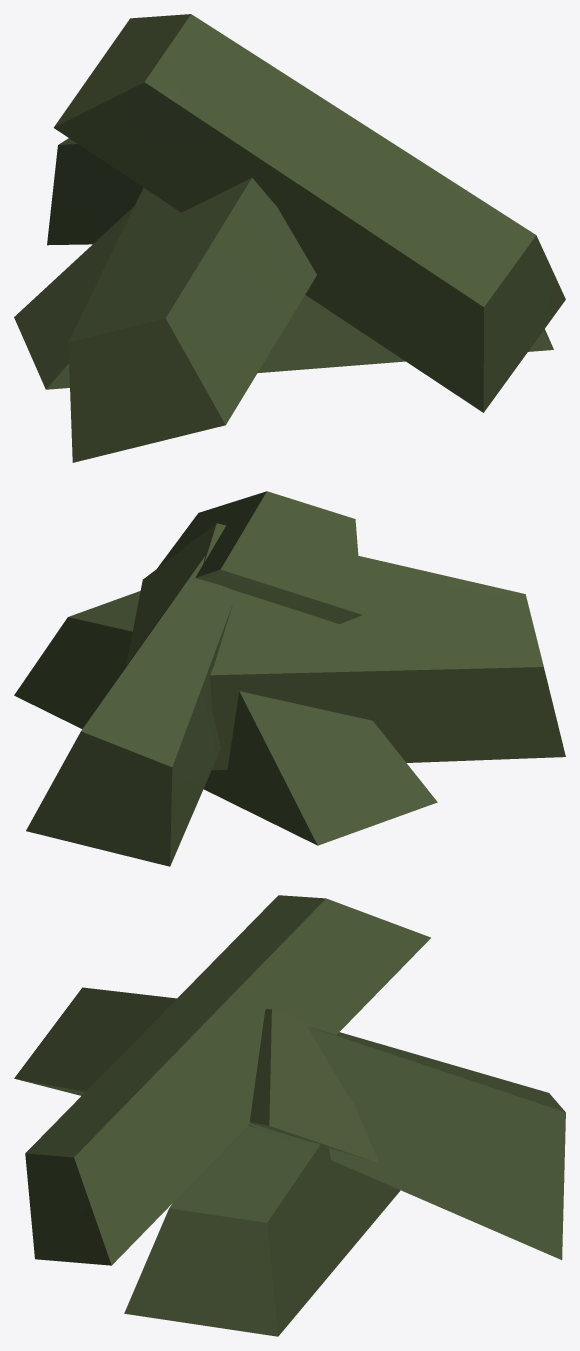
The model's file is ore.fbx.
The picture shows the model from 3 angles, top to bottom: view 1: azimuth 30°, elevation 25°; view 2: azimuth 150°, elevation 25°; view 3: azimuth 270°, elevation 25°; orthographic projection. The views are drawn at different scales.
Visible parts, largest first — view 1: Plane.002, Plane.003, Plane, Plane.001; view 2: Plane.003, Plane.001, Plane, Plane.002; view 3: Plane.002, Plane, Plane.001, Plane.003.
Part boxes in pixels (box(x1,y1,x2,y2)): Plane.002: box(53, 14, 565, 412); Plane.003: box(68, 178, 316, 462); Plane: box(14, 206, 553, 389); Plane.001: box(47, 138, 143, 245); Plane.003: box(126, 523, 565, 770); Plane.001: box(26, 556, 233, 866); Plane: box(14, 591, 437, 845); Plane.002: box(157, 491, 362, 624); Plane.002: box(25, 895, 430, 1265); Plane: box(124, 1126, 400, 1336); Plane.001: box(249, 1026, 565, 1259); Plane.003: box(14, 987, 379, 1163).
Size of the model in its own units: 179 by 103 by 172.
